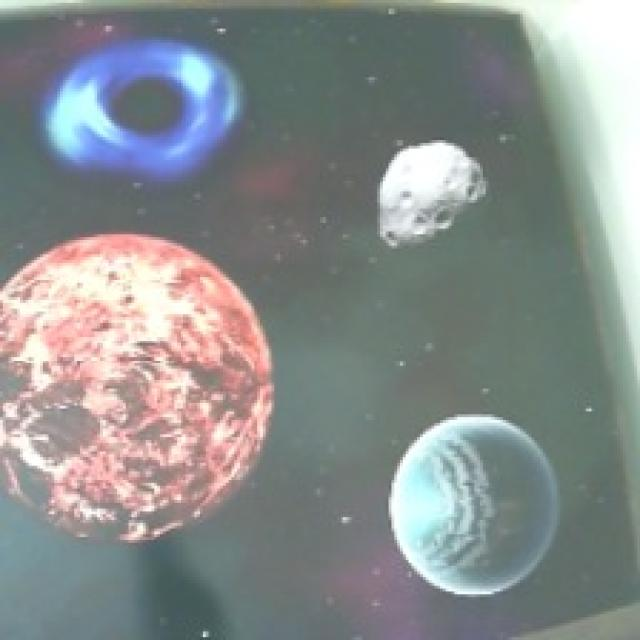Asteroid: (377, 136, 485, 258)
Black Hole: (44, 45, 240, 176)
Earth: (392, 416, 561, 606)
Sun: (0, 230, 277, 548)
